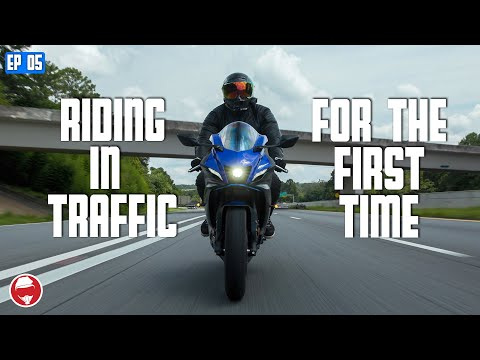Motorcycle: (165, 123, 309, 301)
